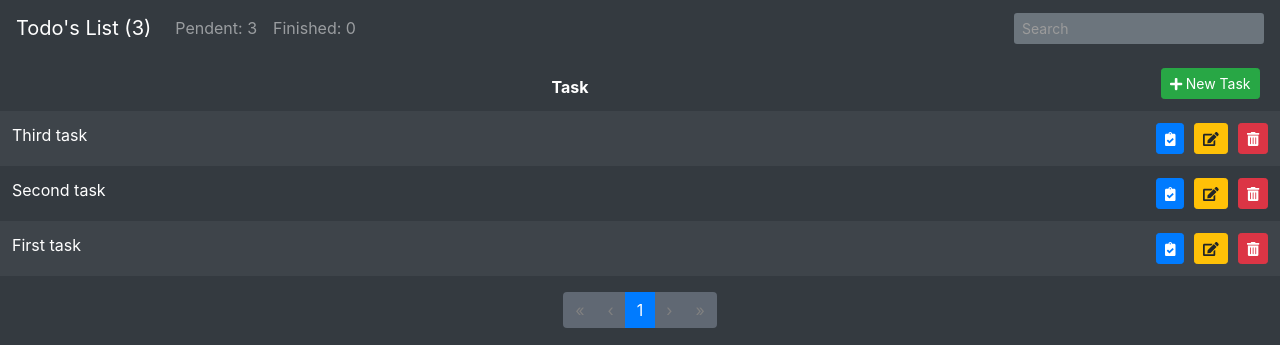
Test case: ListTasks tests › must filter the tasks in the table
The width and height of the screenshot is (1280, 345).
Type "First task" into the field with test id "input-search".
click(1139, 28); type("First task")  # box [1014,12,1264,44]
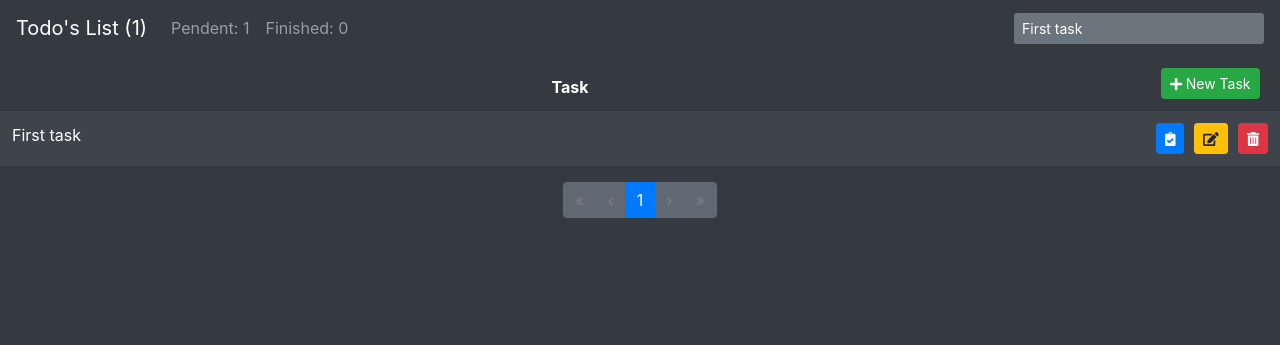
Expected: the table with test id "table" shows "First task", [12,125,81,145]
Expected: the table with test id "table" no longer shows "Second task", [0,56,1279,166]
Expected: the table with test id "table" no longer shows "Third task", [0,56,1279,166]
